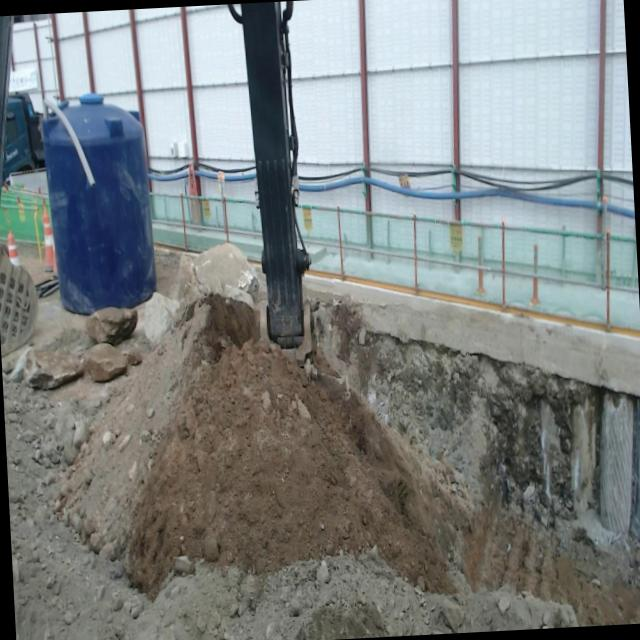stone: (24, 348, 85, 390), (86, 307, 138, 345), (85, 344, 128, 382)
white-sand: (3, 245, 640, 640)
